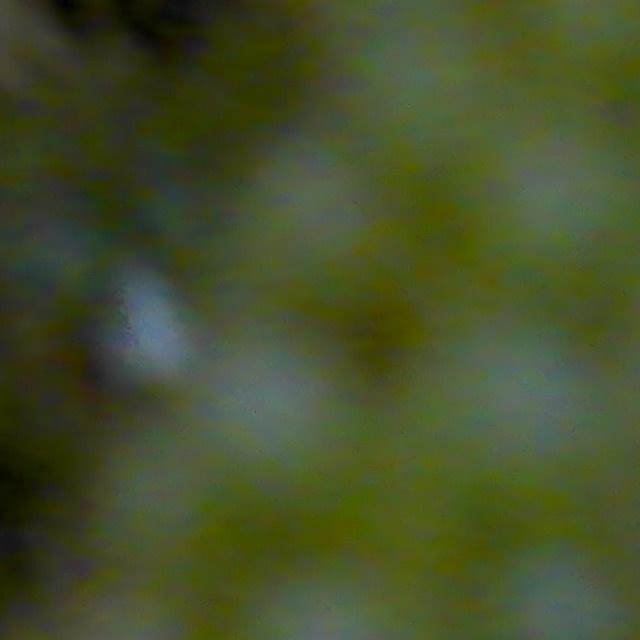SeaGrape: (388, 298, 640, 550), (432, 94, 640, 330), (192, 326, 392, 518), (229, 140, 419, 322), (88, 418, 276, 594), (352, 10, 489, 197)
